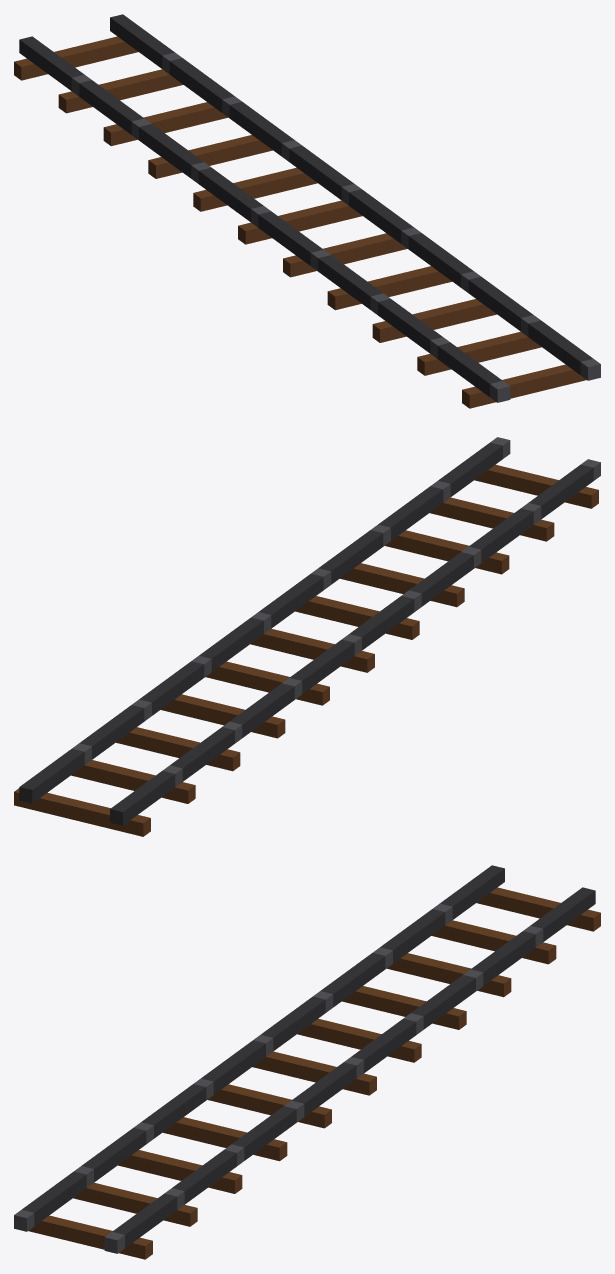
Rendered from prop_mine_rail_voxel.fbx.
3 renders of one model, top to bottom at view 1: azimuth 30°, elevation 25°; view 2: azimuth 150°, elevation 25°; view 3: azimuth 330°, elevation 25°, orthographic.
Visible parts, largest first — view 1: prop_mine_rail_voxel; view 2: prop_mine_rail_voxel; view 3: prop_mine_rail_voxel.
Part boxes in pixels (x1,y1,x2,y2): prop_mine_rail_voxel: (14, 14, 600, 408); prop_mine_rail_voxel: (14, 437, 600, 836); prop_mine_rail_voxel: (14, 865, 600, 1259).
Bounding box in the file's own units: 1 × 0.2 × 6.4.
